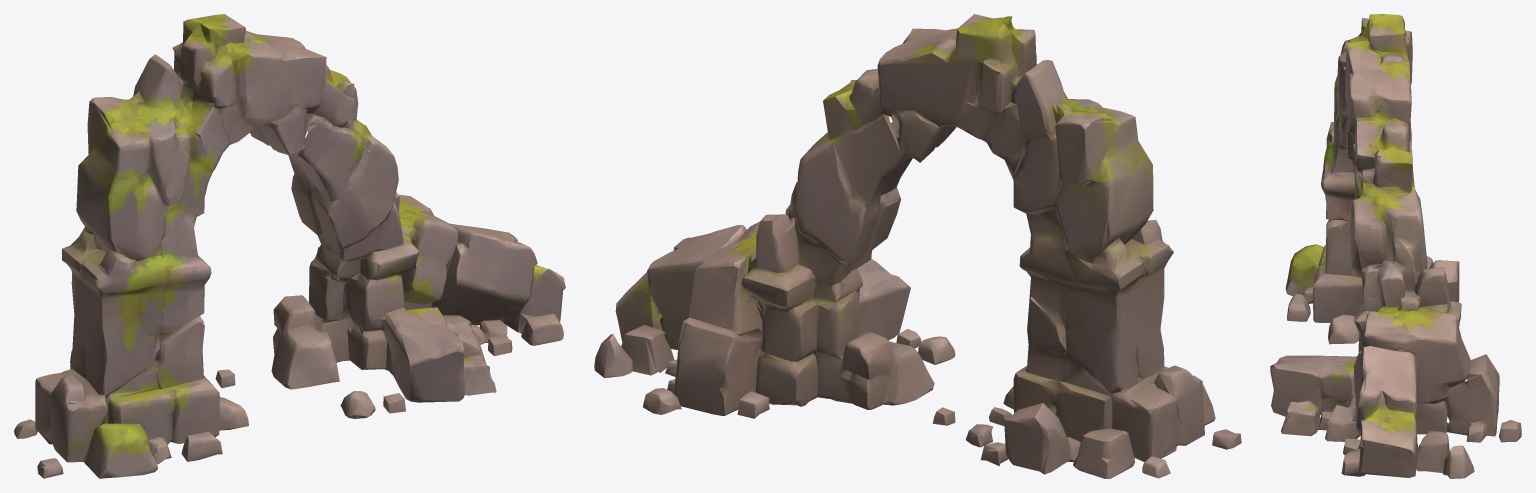
Rendered from stone_arch.glb.
The picture shows the model from 3 angles, left to right: view 1: azimuth 30°, elevation 25°; view 2: azimuth 150°, elevation 25°; view 3: azimuth 270°, elevation 25°; orthographic projection. The views are drawn at different scales.
Parts seen in each view (by area): view 1: body; view 2: body; view 3: body.
Boxes of the visible parts, x1=… form: body: x1=14, y1=14, x2=565, y2=478; body: x1=594, y1=14, x2=1241, y2=478; body: x1=1270, y1=14, x2=1521, y2=478.
Size of the model in its own units: 3.59 by 2.4 by 1.69.
1 material, 1 textured.
